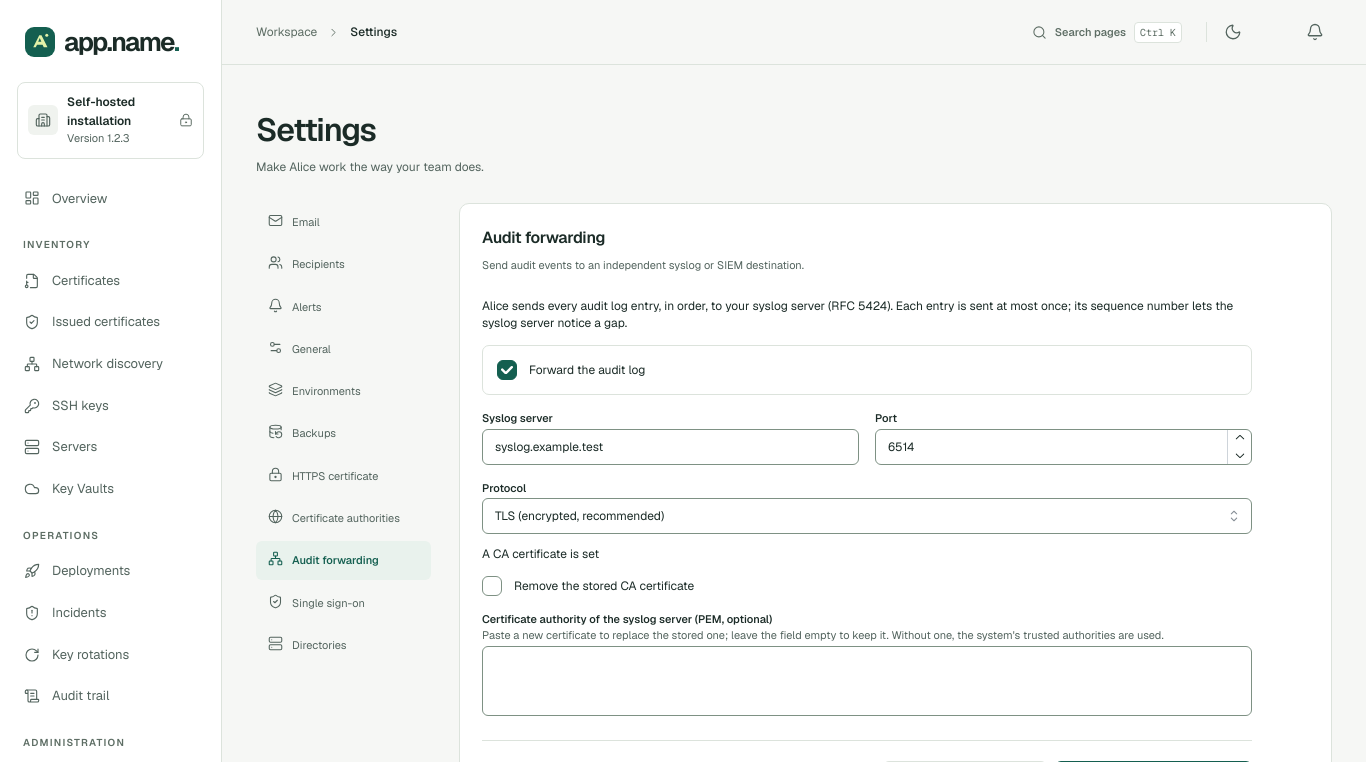
Test: ForwardingTab › tests without the stored CA certificate while its removal is chosen
What coordinates should you click on to do the following:
click the checkbox labelled "Remove the stored CA certificate"
I would click on:
 (492, 586)
Its box is [482,576,502,596].
(page scrolled)
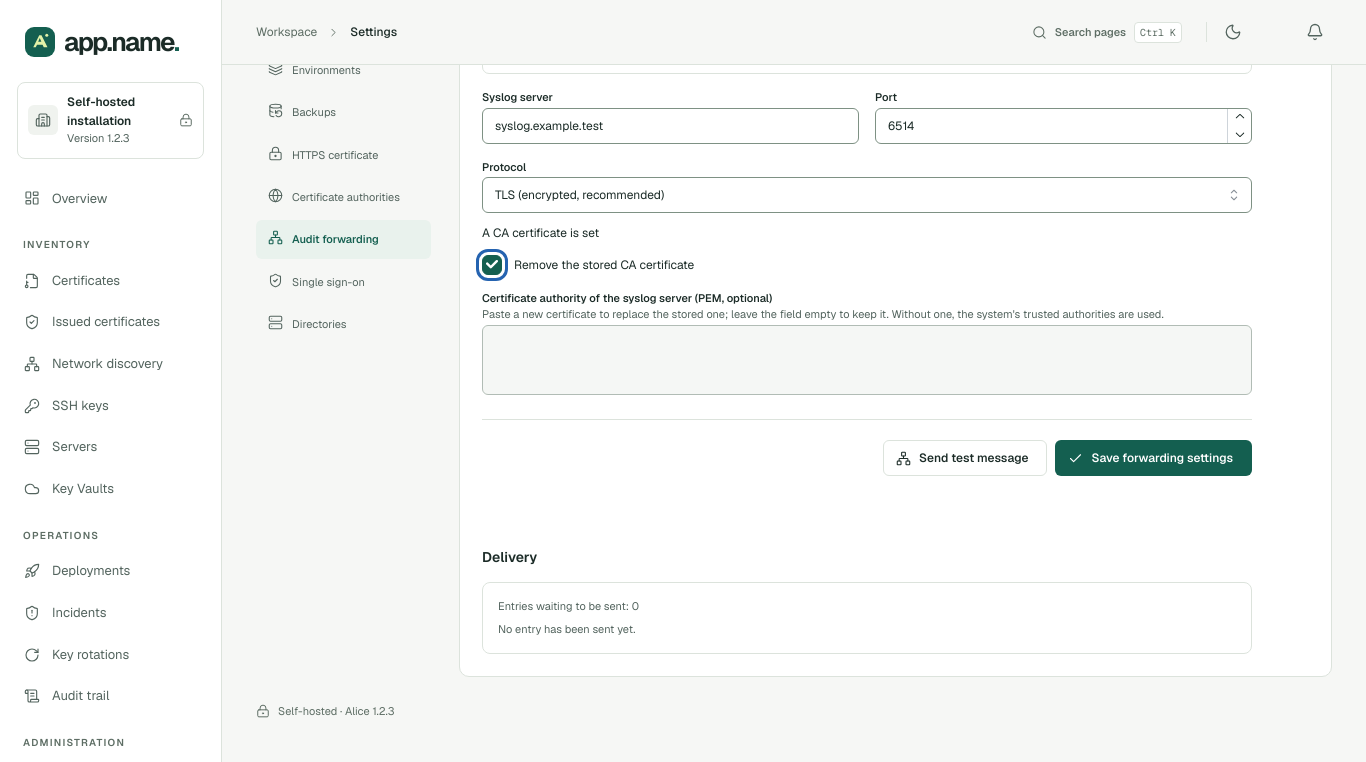
What coordinates should you click on to do the following:
click the button "Send test message"
I would click on:
 (965, 458)
Its box is [883,440,1048,476].
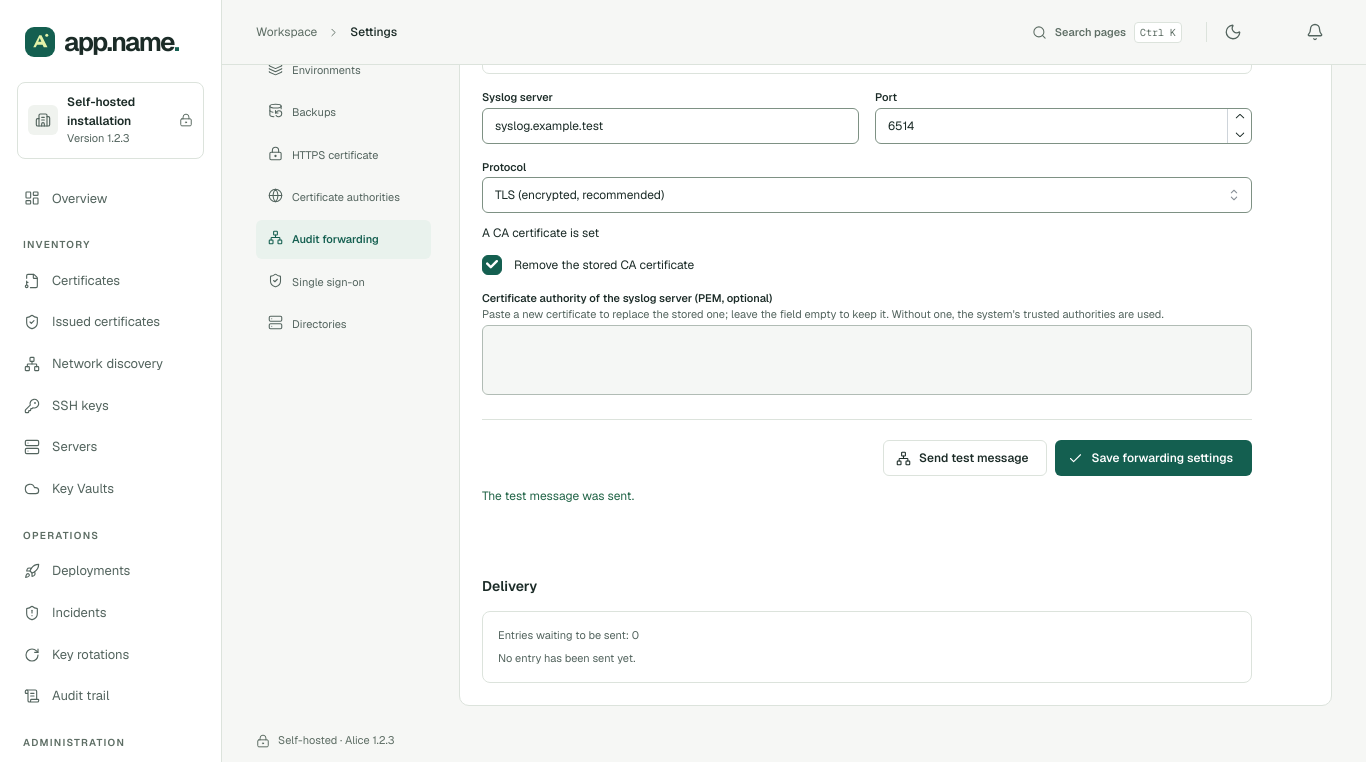
Check: the text "The test message was sent." is shown, box [482,488,634,504]
